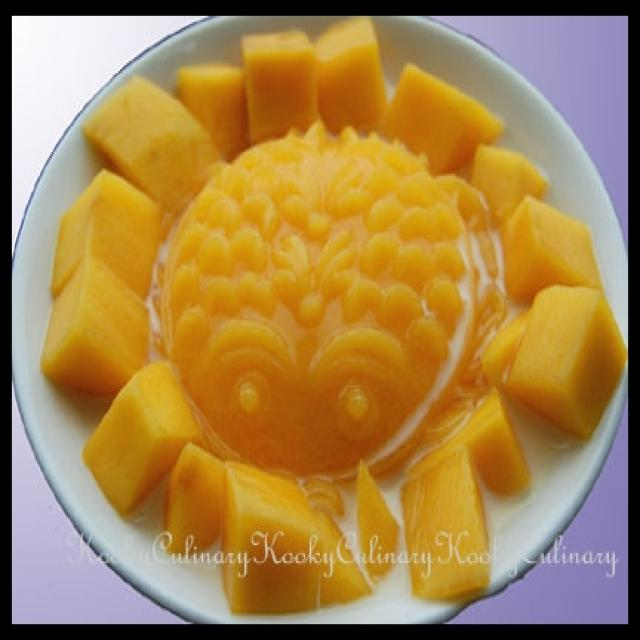蛋糕甜品: (19, 28, 624, 614)
